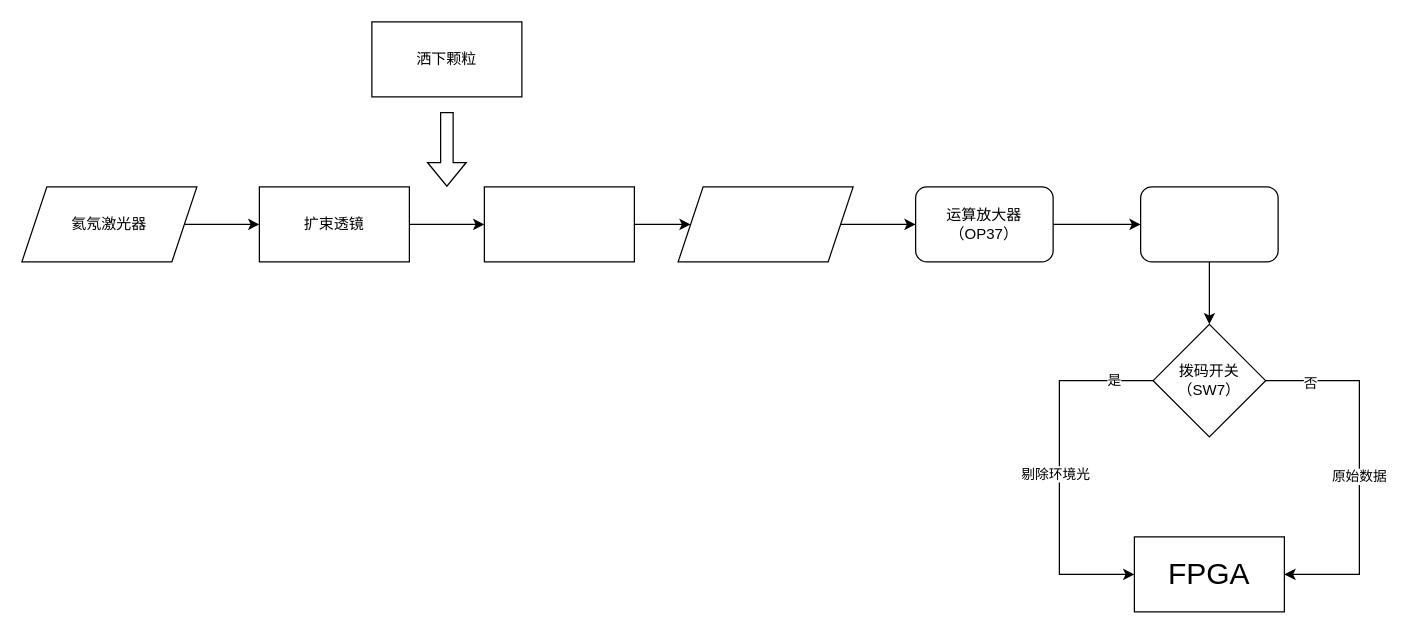
Some shapes in this 1408 by 634 pixel diagram are drawn without their labels. The shapes that lost their labels are listed below. From the top down, each one's centre as x and y in pixels, then its label:
At (558,224): "凸透镜汇聚".
At (765,224): "32路光电传感器".
At (1208,224): "模拟开关 （ADG1206）".
